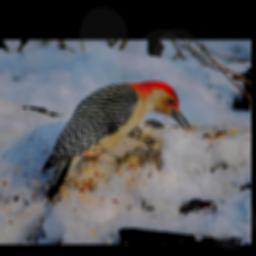Woodpecker: (38, 80, 192, 206)
